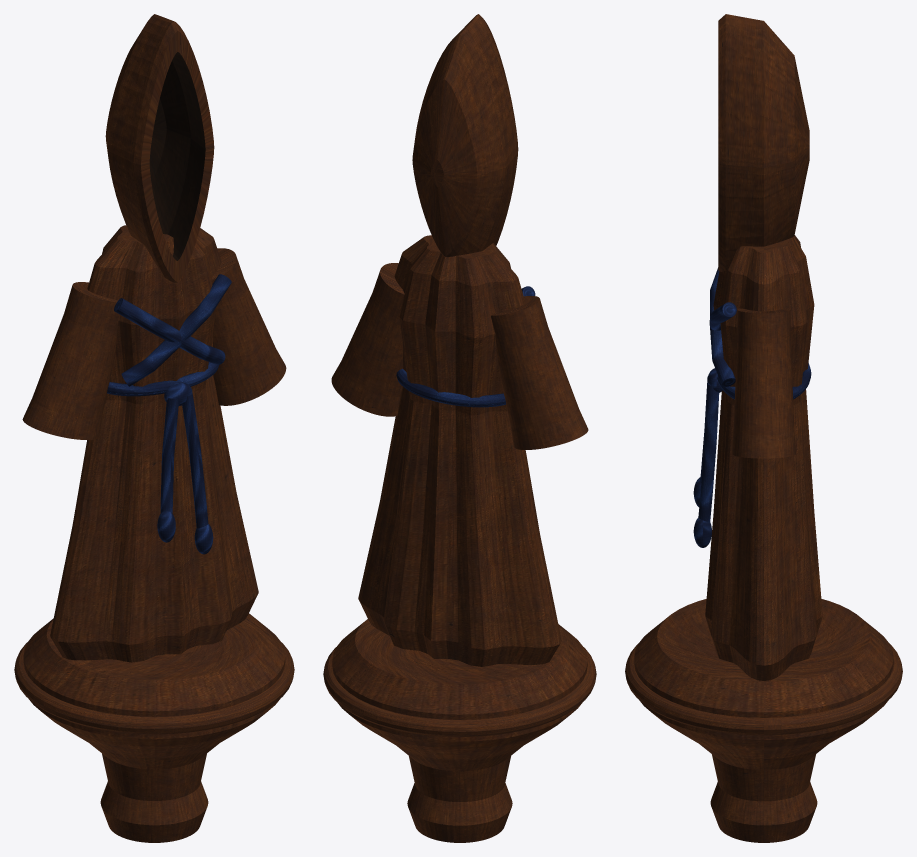
File: effigy_t1.obj
3 renders of one model, left to right at view 1: azimuth 30°, elevation 25°; view 2: azimuth 150°, elevation 25°; view 3: azimuth 270°, elevation 25°, orthographic. The views are drawn at different scales.
Parts seen in each view (by area): view 1: robe, base, hood, sleeve-1, sleeve1, base_band, chest_cord1, chest_cord-1, hanging_cord1, hanging_cord-1, waist_cord; view 2: robe, base, hood, sleeve-1, sleeve1, base_band, waist_cord; view 3: robe, base, hood, sleeve1, base_band, hanging_cord1, chest_cord-1.
Part boxes in pixels (x1,y1,x2,y2): robe: (50, 225, 258, 662); base: (23, 613, 285, 842); hood: (105, 14, 214, 282); sleeve-1: (22, 282, 119, 439); sleeve1: (211, 248, 286, 405); base_band: (14, 642, 294, 734); chest_cord1: (121, 274, 231, 386); chest_cord-1: (114, 298, 225, 364); hanging_cord1: (182, 392, 208, 528); hanging_cord-1: (160, 398, 178, 512); waist_cord: (107, 362, 218, 396); robe: (358, 235, 561, 666); base: (332, 619, 587, 842); hood: (412, 14, 518, 257); sleeve-1: (491, 296, 588, 449); sleeve1: (331, 263, 404, 416); base_band: (323, 647, 596, 736); waist_cord: (396, 368, 505, 407); robe: (705, 235, 822, 680); base: (634, 599, 893, 842); hood: (718, 14, 809, 271); sleeve1: (732, 308, 795, 458); base_band: (625, 643, 902, 735); hanging_cord1: (698, 383, 719, 522); chest_cord-1: (709, 267, 735, 386).
Bounding box in the file's own units: 36.81 × 112 × 34.84.
3 materials, 3 textured.
